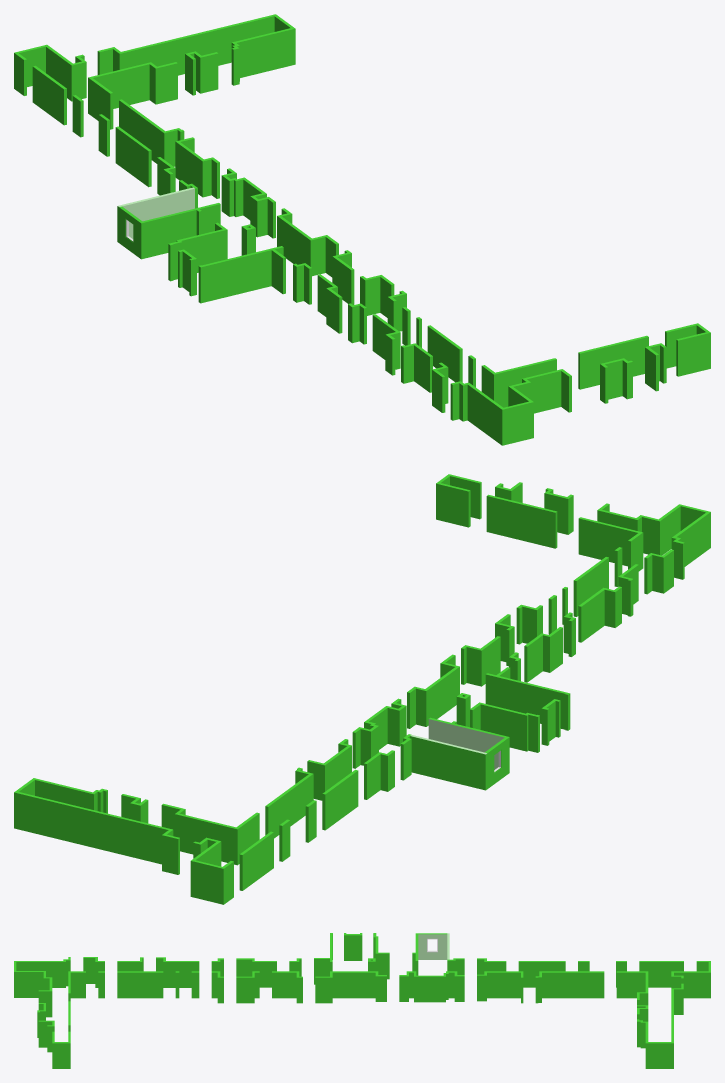
The model's file is UT_Hallway_fin.dae.
3 renders of one model, top to bottom at view 1: azimuth 30°, elevation 25°; view 2: azimuth 150°, elevation 25°; view 3: azimuth 270°, elevation 25°, orthographic. The views are drawn at different scales.
Visible parts, largest first — view 1: node0; view 2: node0; view 3: node0.
Boxes of the visible parts, box(x1,y1,x2,y2) form: node0: box(14, 14, 710, 445); node0: box(14, 474, 710, 904); node0: box(14, 933, 710, 1068).
Size of the model in its own units: 21.1 by 56.45 by 2.3.
